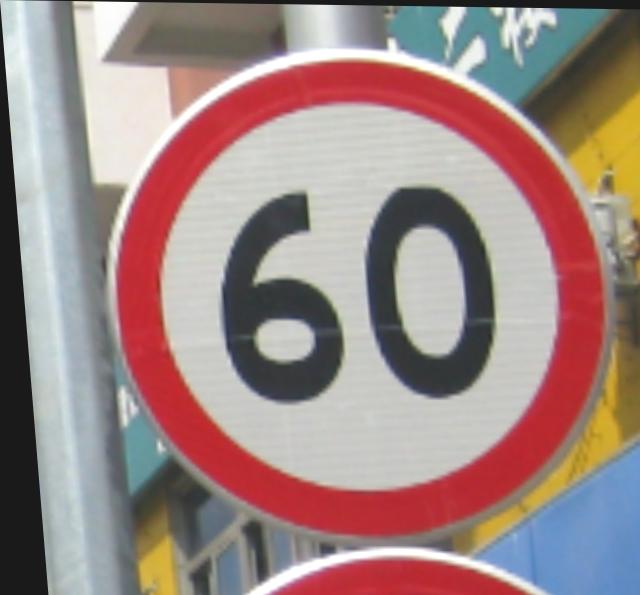limit60: (68, 37, 635, 549)
